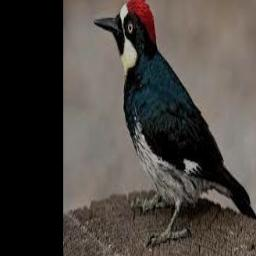Woodpecker: (93, 0, 256, 243)
